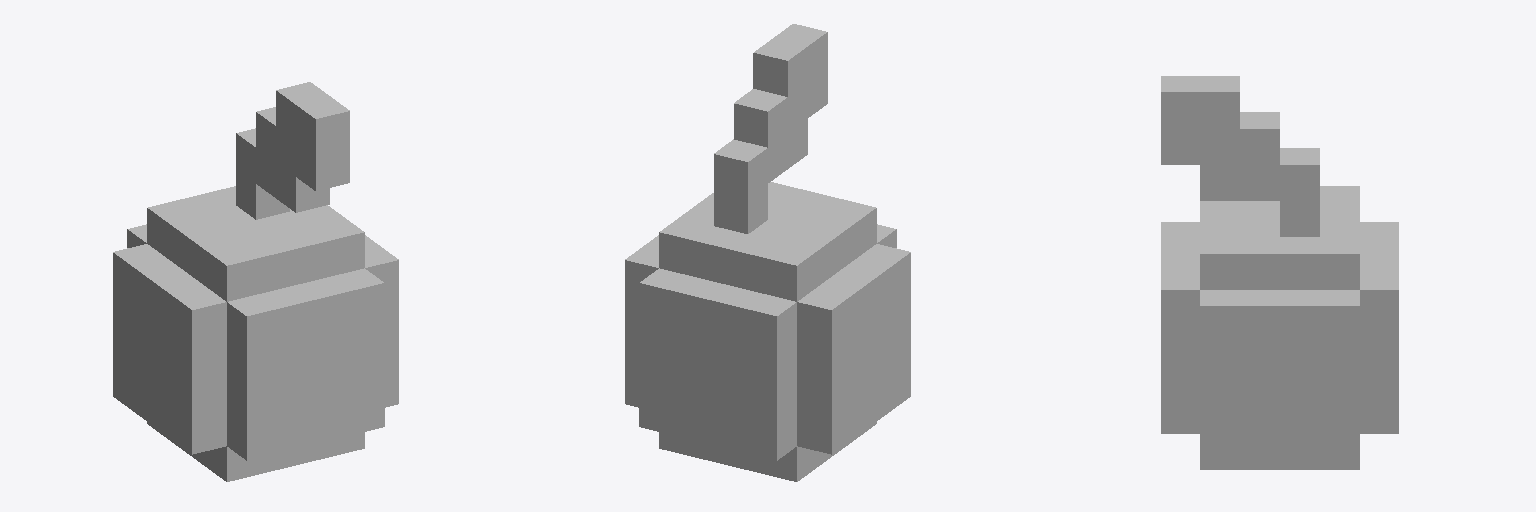
File: apfel.obj
3 views of the same model, side by side, from view 1: azimuth 30°, elevation 25°; view 2: azimuth 150°, elevation 25°; view 3: azimuth 270°, elevation 25° (orthographic).
Parts seen in each view (by area): view 1: cube; view 2: cube; view 3: cube.
Part boxes in pixels (bbox=[...]): cube: bbox=[113, 82, 398, 481]; cube: bbox=[625, 24, 910, 481]; cube: bbox=[1161, 76, 1398, 469].
Bounding box in the file's own units: 0.375 × 0.625 × 0.375.